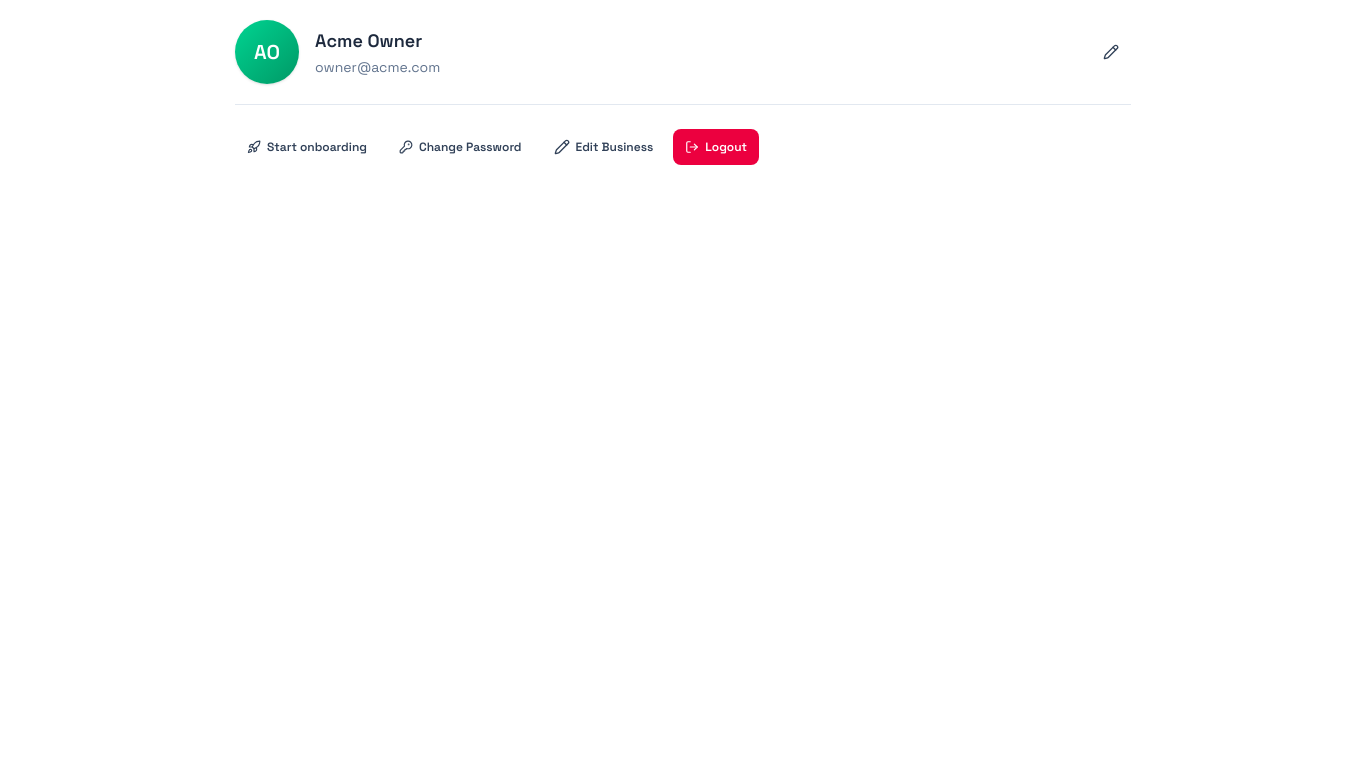
Test case: ProfilePage Component › opens edit modal with current name pre-filled
Expected: the text "Acme Owner" is shown, [315,29,422,52]
Click the button named "edit profile".
click(1111, 52)  # box [1091,34,1131,70]
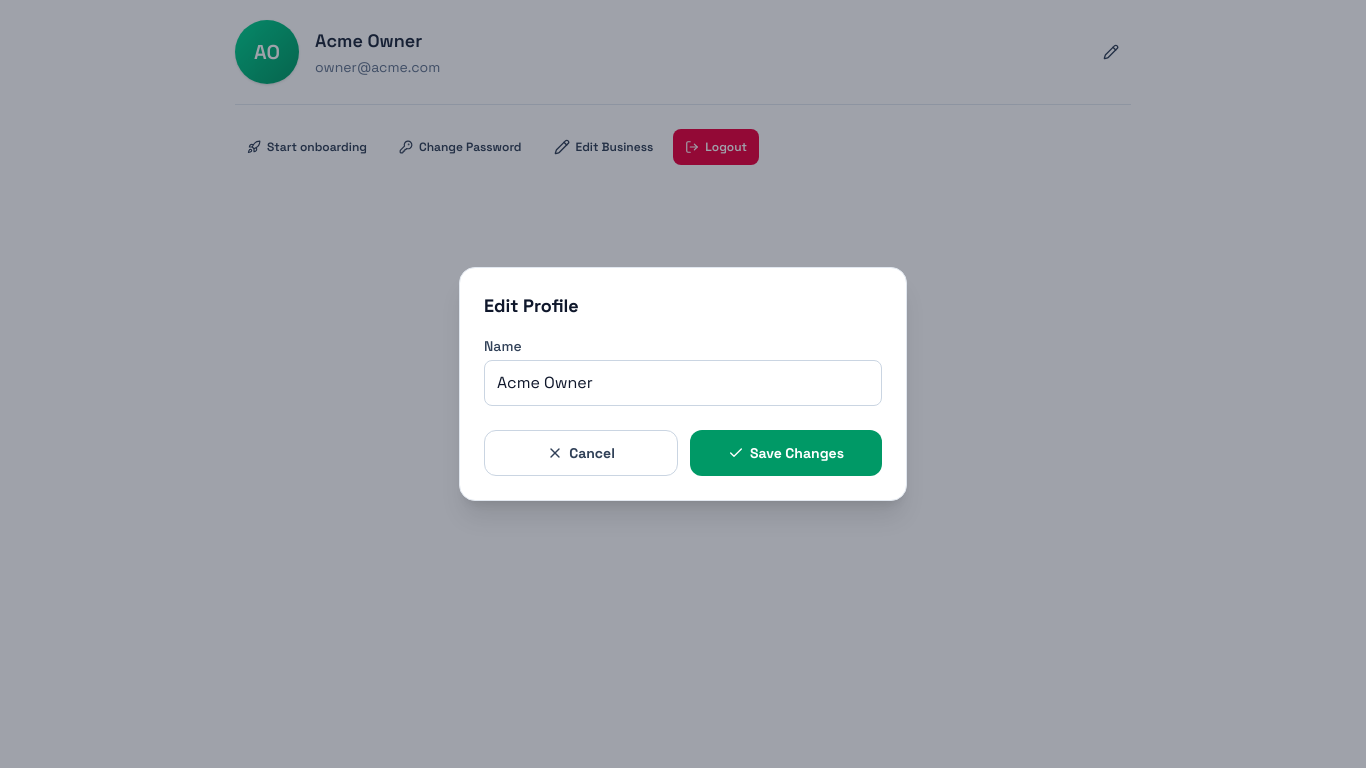
Expected: the heading "Edit Profile" is shown, [484,294,579,317]
Expected: the field with placeholder "Enter your name" holds "Acme Owner", [484,360,882,406]
